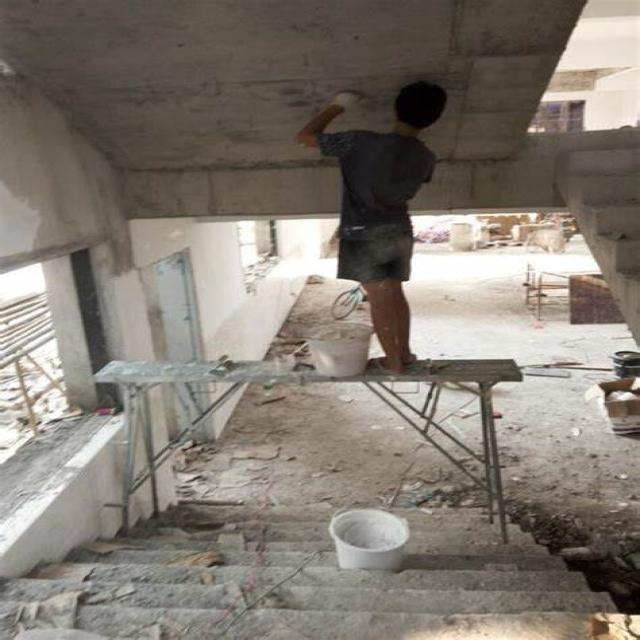gloves: (328, 85, 371, 115)
no_boots: (370, 355, 407, 377)
no_hardhat: (382, 80, 454, 136)
no_vest: (315, 122, 439, 240)
person: (294, 77, 466, 380)
